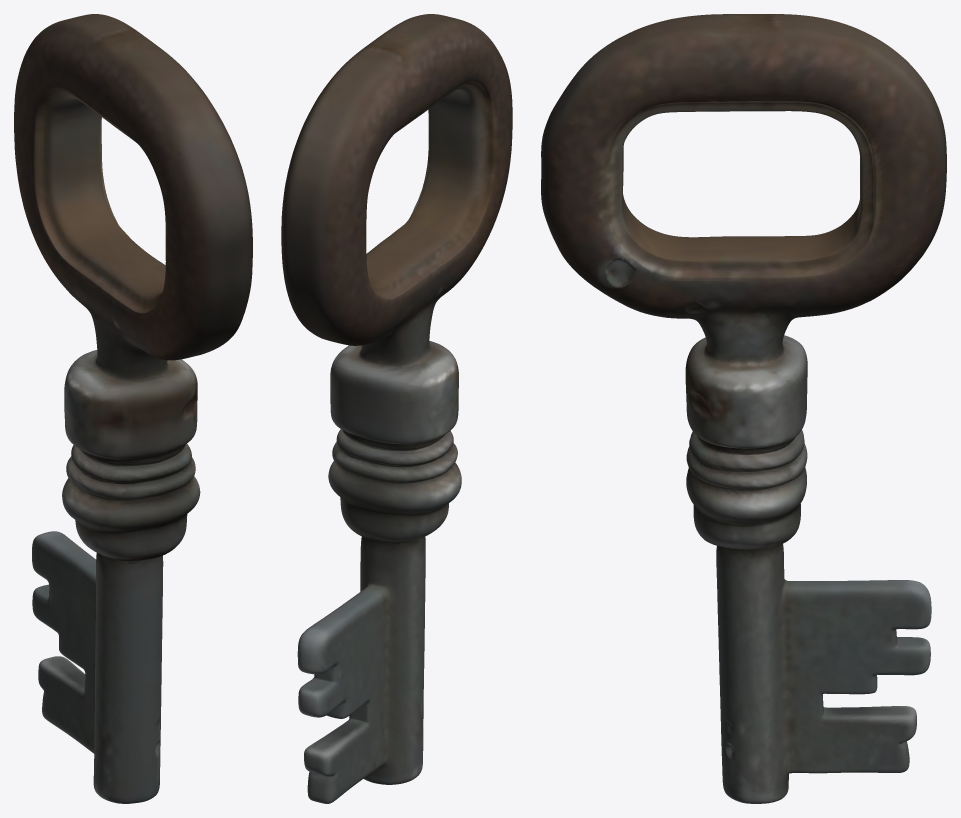
The model's file is Key3.fbx.
3 views of the same model, side by side, from view 1: azimuth 30°, elevation 25°; view 2: azimuth 150°, elevation 25°; view 3: azimuth 270°, elevation 25° (orthographic). The views are drawn at different scales.
Parts seen in each view (by area): view 1: tripo_node_c6a790f1.003; view 2: tripo_node_c6a790f1.003; view 3: tripo_node_c6a790f1.003.
Part boxes in pixels (left/top/right/bottom): tripo_node_c6a790f1.003: left=14, top=14, right=252, bottom=803; tripo_node_c6a790f1.003: left=281, top=14, right=512, bottom=803; tripo_node_c6a790f1.003: left=541, top=14, right=946, bottom=803.
Bounding box in the file's own units: 5.88 × 34.53 × 16.47.
Materials: 1 (1 with a texture image).
